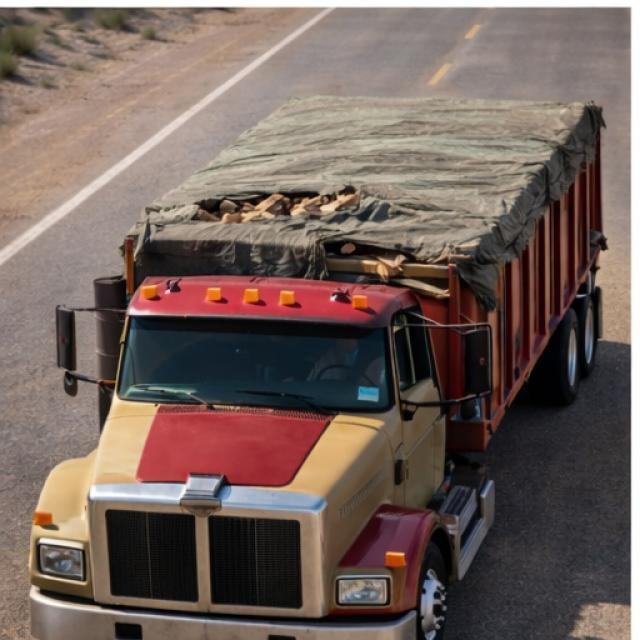trailer: (107, 84, 607, 253)
truck: (27, 34, 623, 630)
